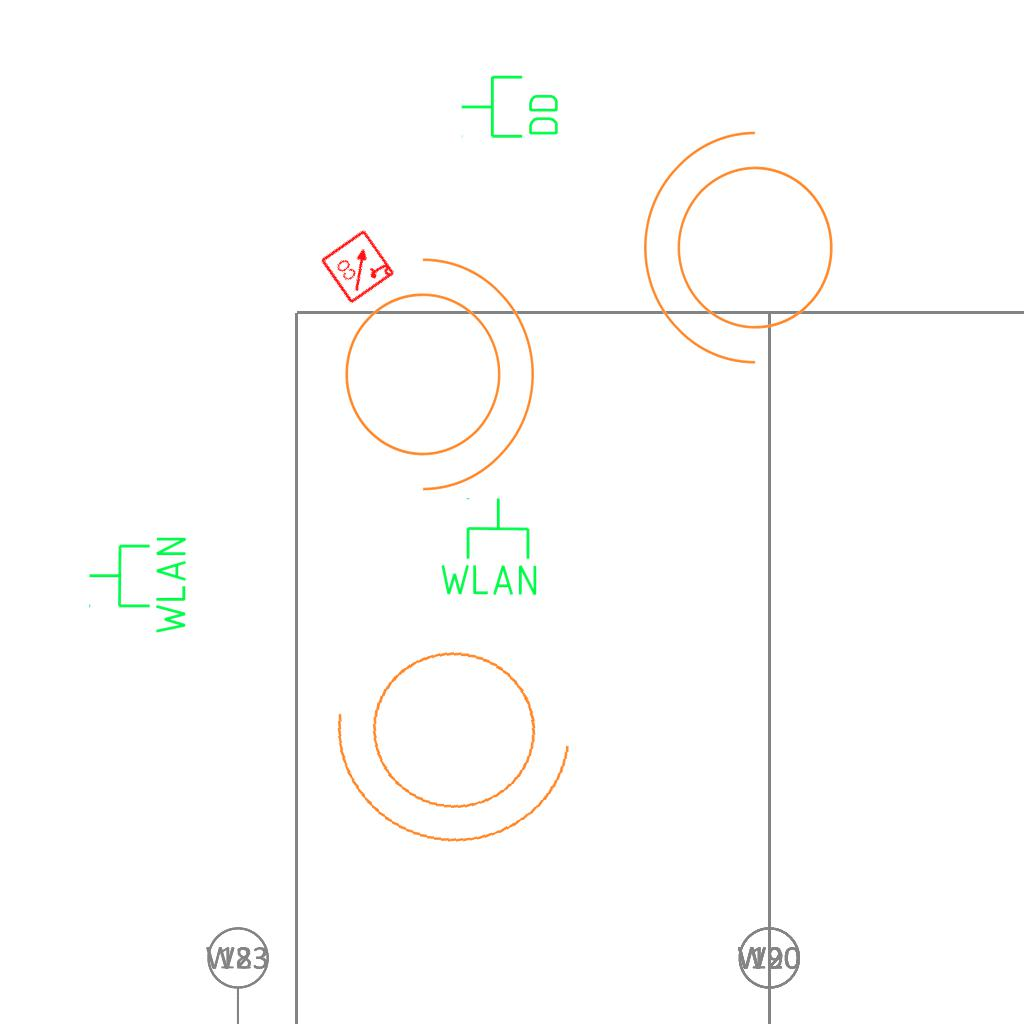Datenanschluss_zweifach: (459, 73, 562, 142)
ROA_Rauchmelder_optisch_mit_Signalgeber_(Sockelsirene): (319, 227, 397, 305)
Scheinwerfer_fuer_Alarmbeleuchtung: (312, 610, 606, 871), (633, 122, 858, 386), (320, 236, 545, 500)
WLAN: (436, 495, 541, 599), (86, 533, 190, 638)
